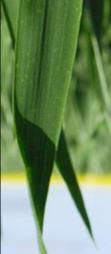Wheat: (21, 4, 73, 64), (13, 70, 63, 106), (19, 116, 50, 155), (29, 160, 48, 185)
